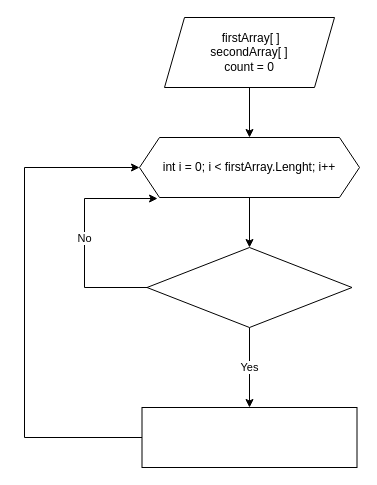
Image size: 377x485. Some labels were removed from this diagram. The centre of each missing label's shape, as x and y in pixels:
"firstArray[i].Lenght <= 3" goes at pixel 249 287.
"secondArray[count] = firstArray[i] count++" goes at pixel 249 437.
